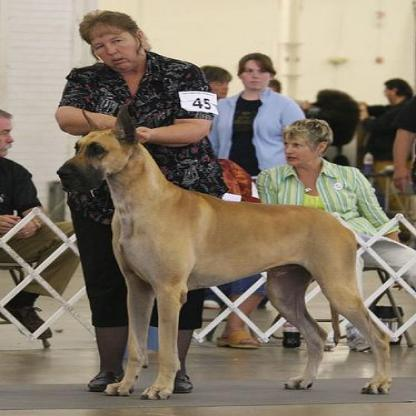Great_Dane: (56, 100, 392, 397)
